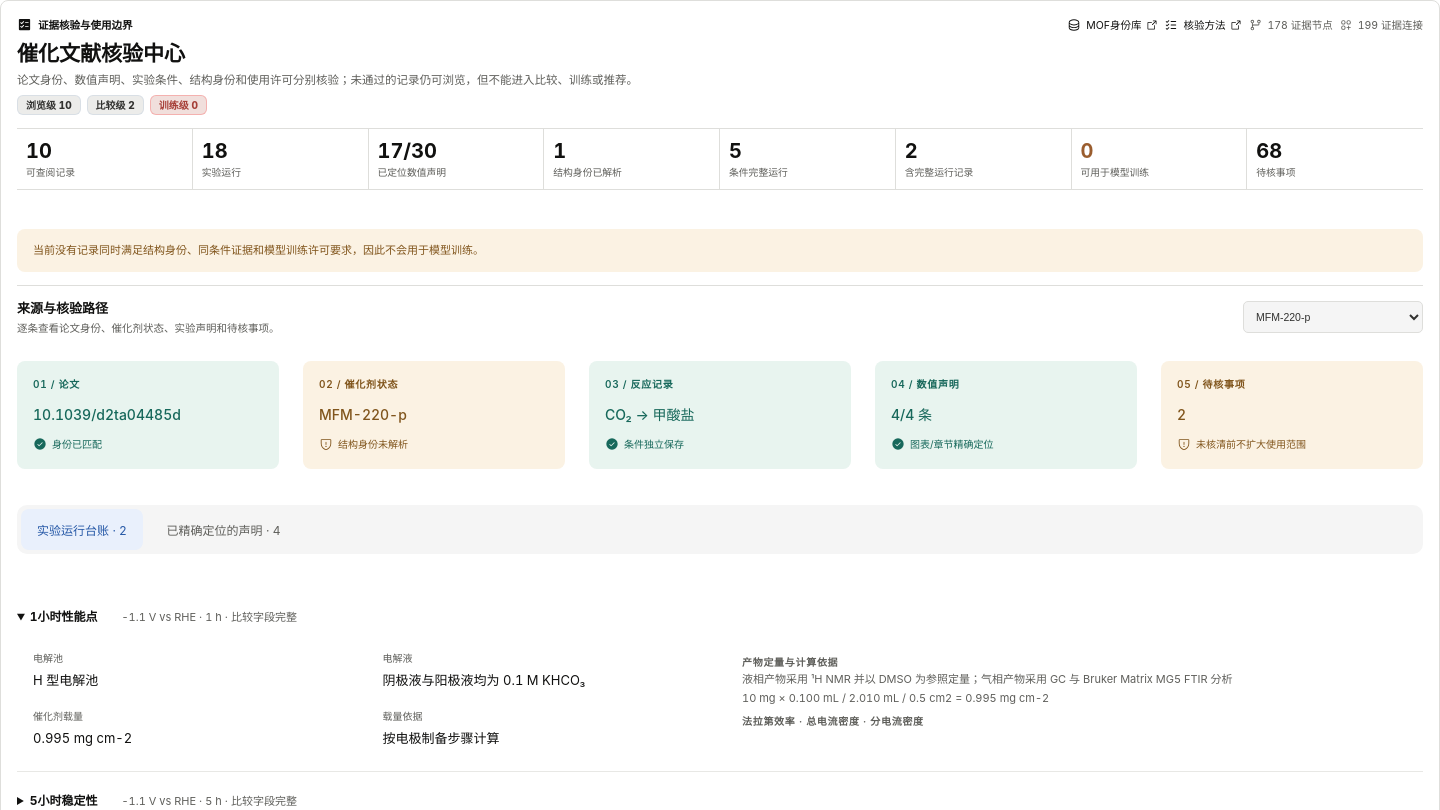
Test: CatalysisVerificationCenter › switches the evidence trace to the selected record and exposes publisher locations
Select "Bi-HHTP" in the dropdown named "选择催化记录" at (1333, 317), box [1243, 301, 1423, 333]
(page scrolled)
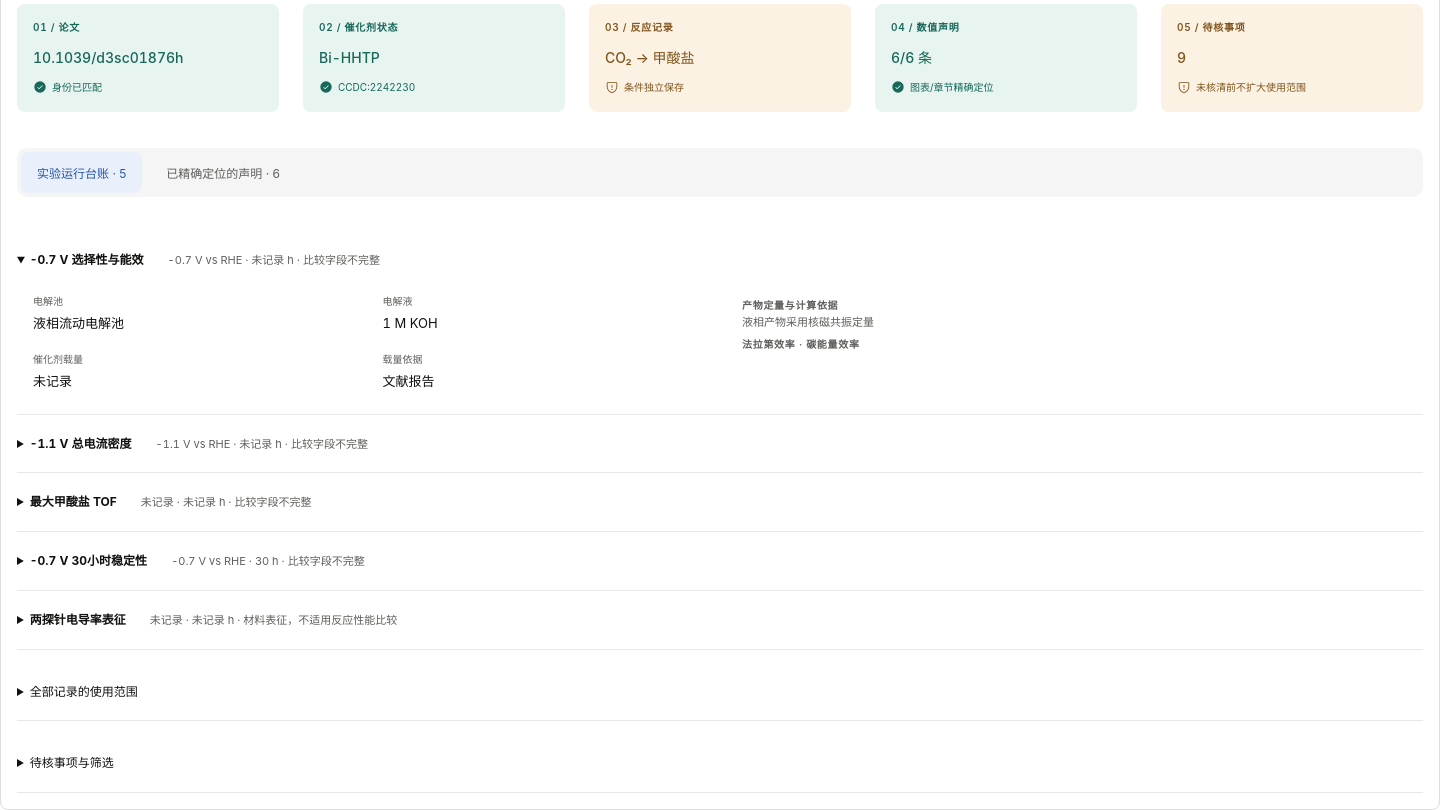
Check: the element with test id "catalysis-experiment-run-ledger" shows "材料表征，不适用反应性能比较", box [243, 613, 397, 627]
